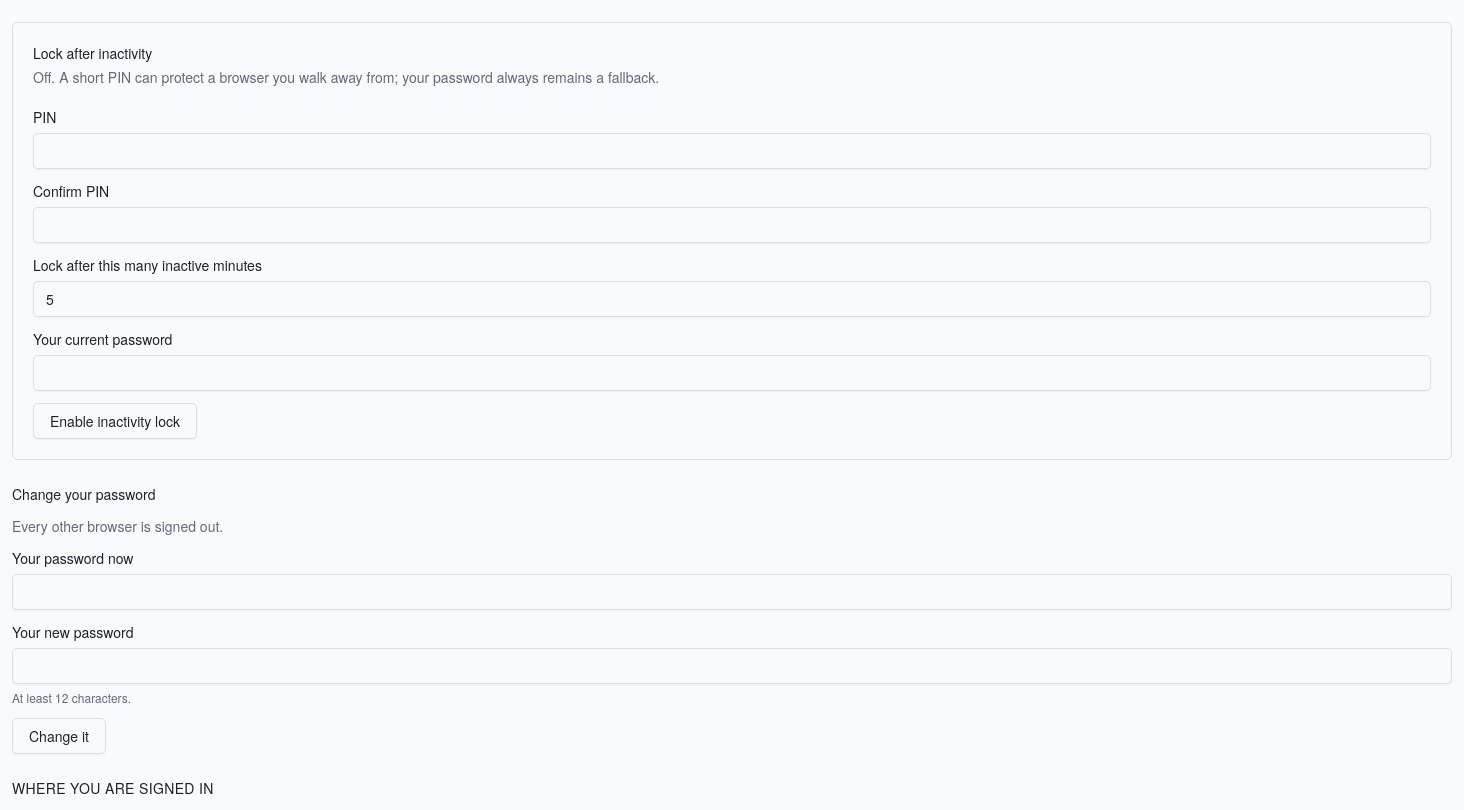
it: how the owner signs in › changes the password and says every other browser is signed out
This screenshot has width=1464, height=810.
(page scrolled)
Expected: the text "Every other browser is signed out." is shown, [12,516,223,536]
Type "the old one at least twelve" into the password field labelled "Your password now" at (732, 592), box [12,574,1452,610]
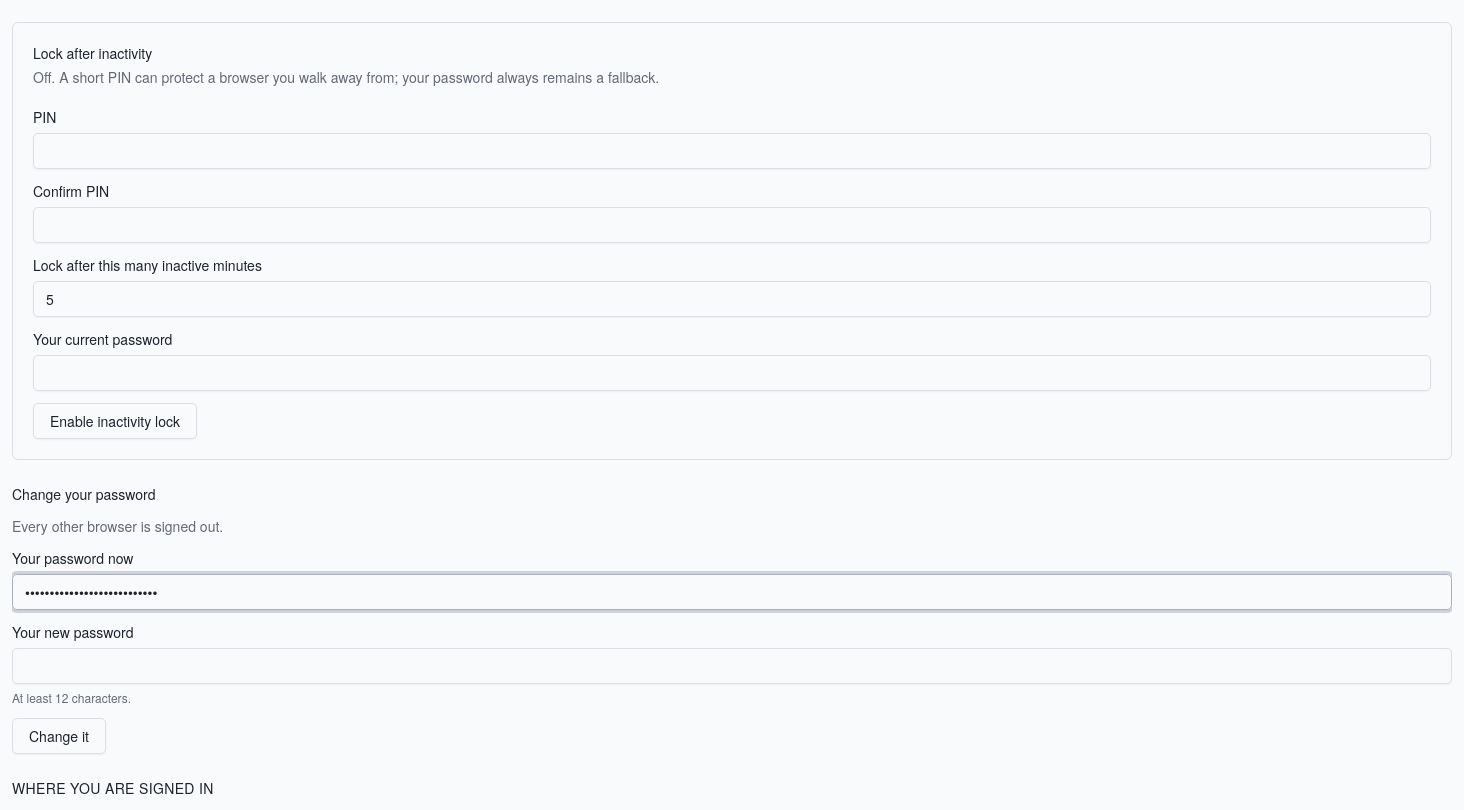
Type "the new one at least twelve" into the password field labelled "Your new password" at (732, 666), box [12,648,1452,684]
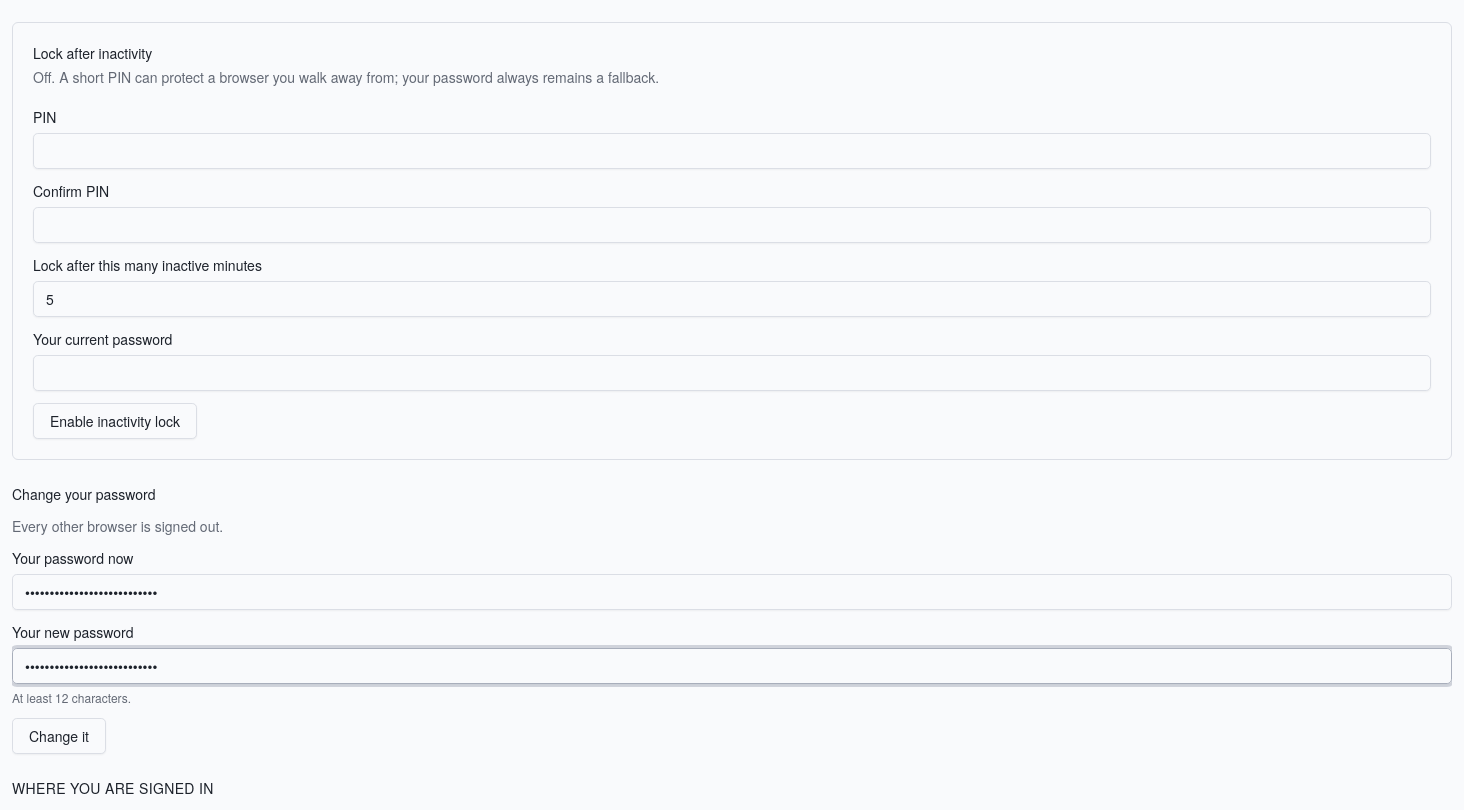
Click the button "Change it" at (59, 736), box [12,718,106,754]
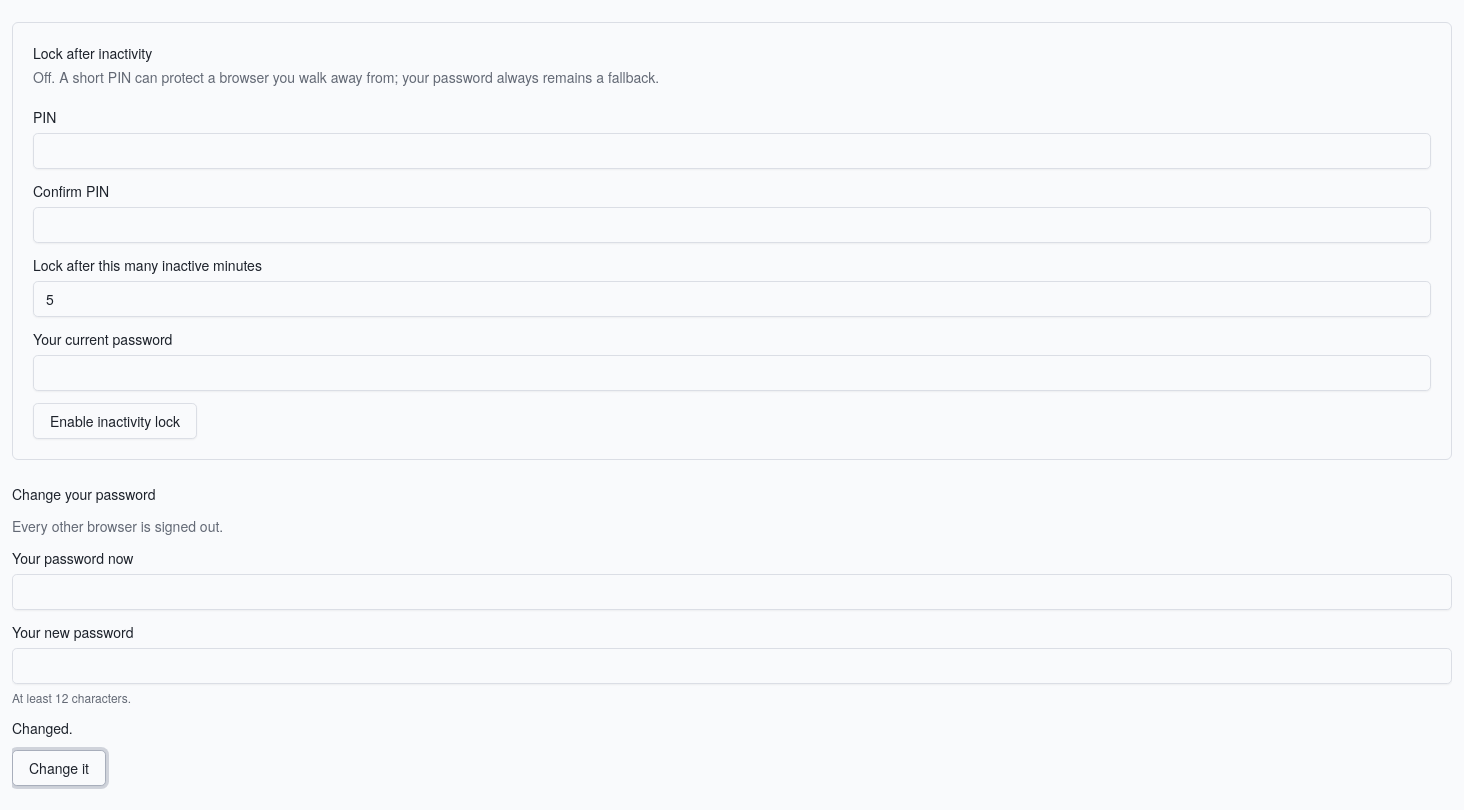
Expected: the text "Changed." is shown, [12,718,73,738]
